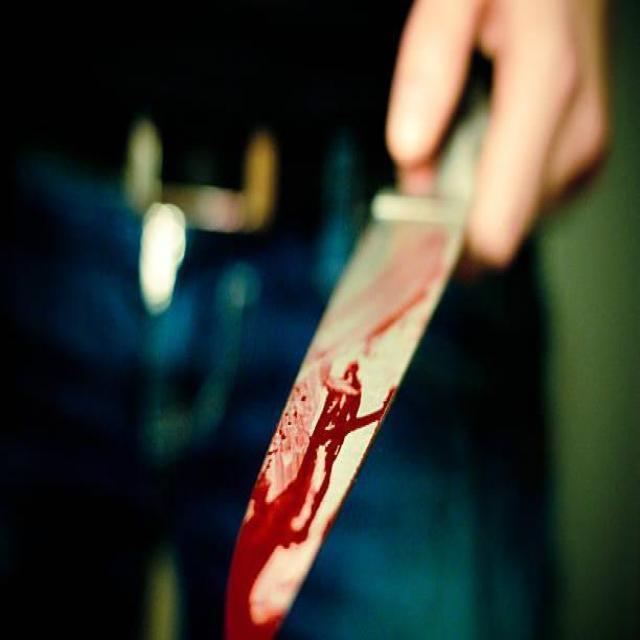flood: (214, 342, 406, 640)
